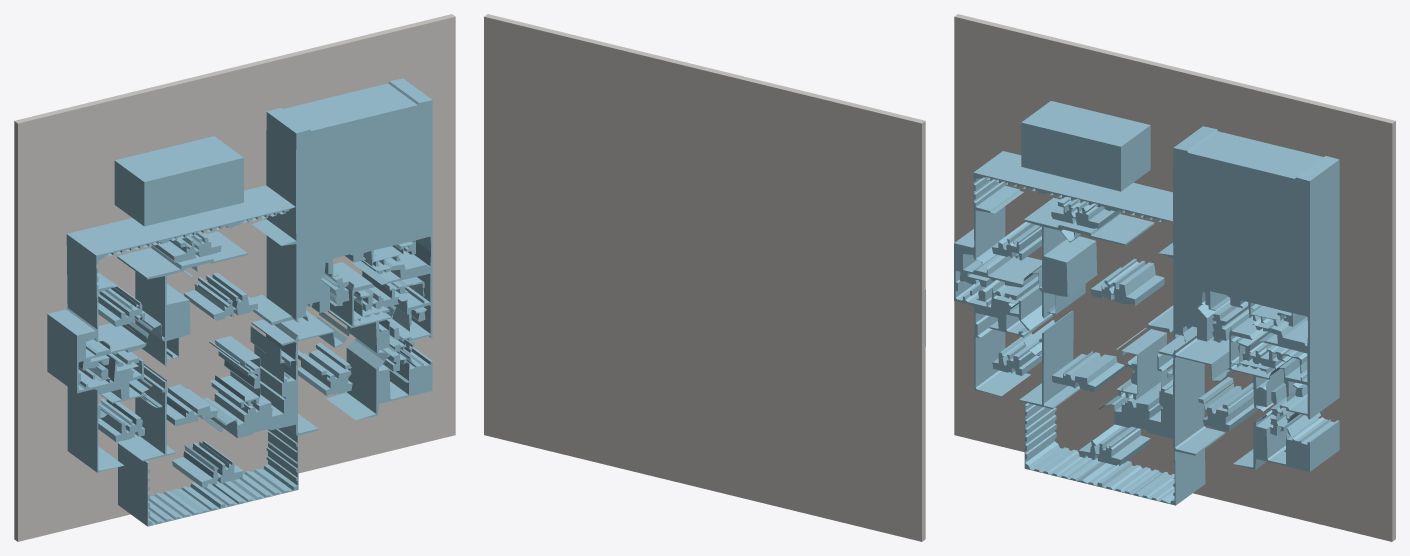
The picture shows the model from 3 angles, left to right: view 1: azimuth 30°, elevation 25°; view 2: azimuth 150°, elevation 25°; view 3: azimuth 330°, elevation 25°; orthographic projection.
Parts seen in each view (by area): view 1: world; view 2: world; view 3: world.
Part boxes in pixels (x1,y1,x2,y2): world: [14, 14, 455, 541]; world: [484, 14, 925, 541]; world: [954, 14, 1395, 541].
Bounding box in the file's own units: 10.23 × 9.34 × 1.35.
